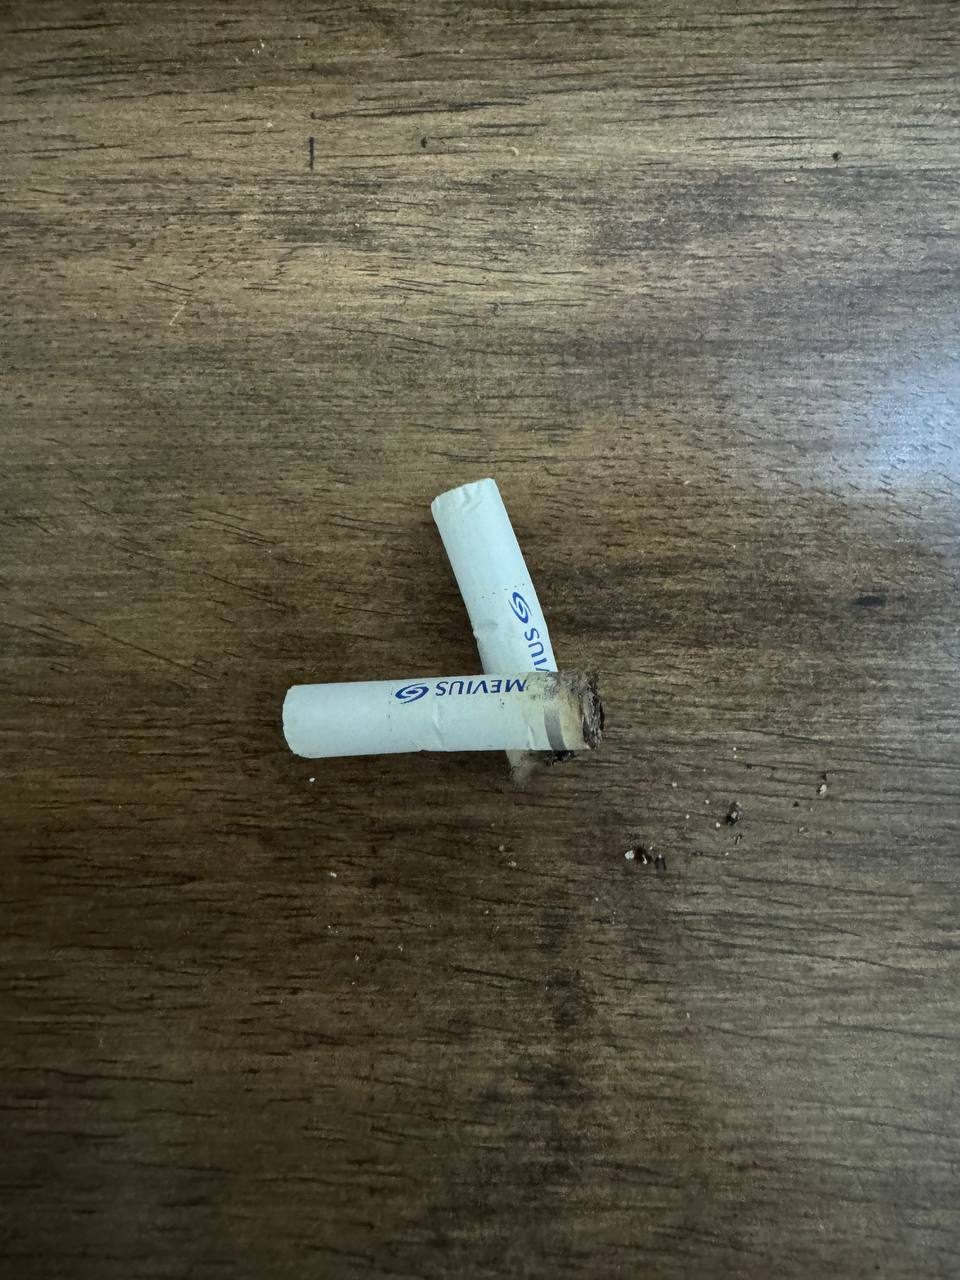trash: (417, 474, 578, 786), (272, 670, 616, 765)
